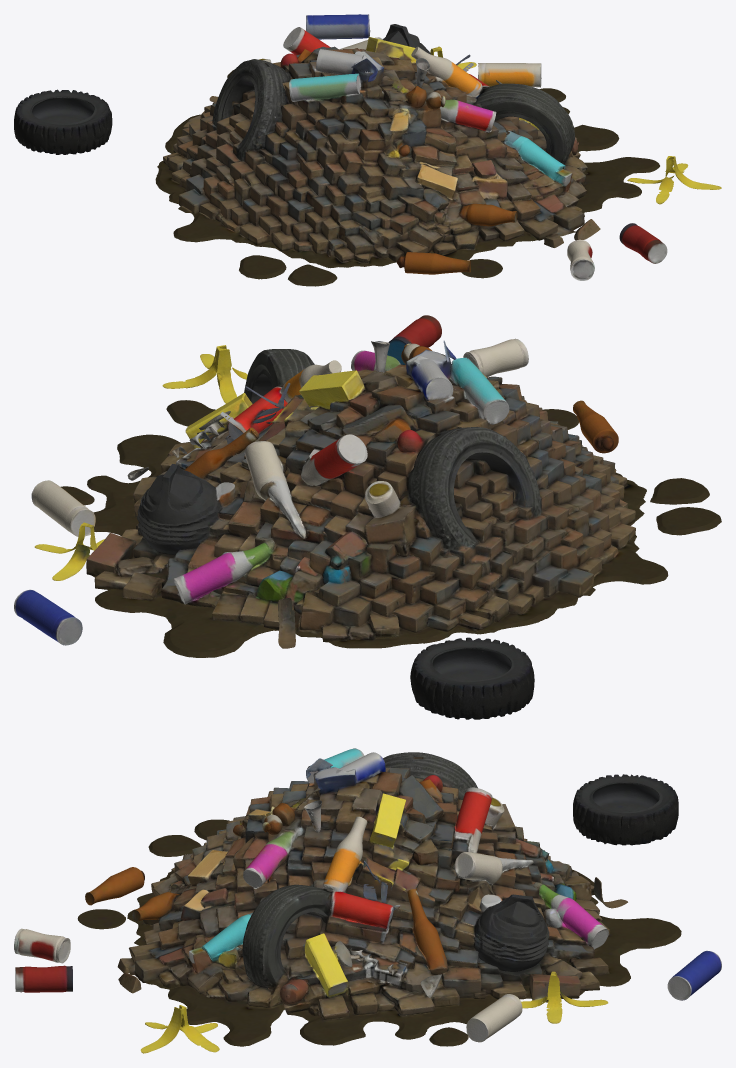
File: waste-management.glb
The picture shows the model from 3 angles, top to bottom: view 1: azimuth 30°, elevation 25°; view 2: azimuth 150°, elevation 25°; view 3: azimuth 270°, elevation 25°; orthographic projection. The views are drawn at different scales.
Parts seen in each view (by area): view 1: tripo_node_e53b9ad0-dc49-4d4c-a94e-9956443725d4; view 2: tripo_node_e53b9ad0-dc49-4d4c-a94e-9956443725d4; view 3: tripo_node_e53b9ad0-dc49-4d4c-a94e-9956443725d4.
Part boxes in pixels (x1=…): tripo_node_e53b9ad0-dc49-4d4c-a94e-9956443725d4: x1=14, y1=14, x2=721, y2=286; tripo_node_e53b9ad0-dc49-4d4c-a94e-9956443725d4: x1=14, y1=315, x2=721, y2=719; tripo_node_e53b9ad0-dc49-4d4c-a94e-9956443725d4: x1=14, y1=748, x2=721, y2=1053.
Size of the model in its own units: 0.8492 by 0.2466 by 0.9959.
Materials: 1 (1 with a texture image).
